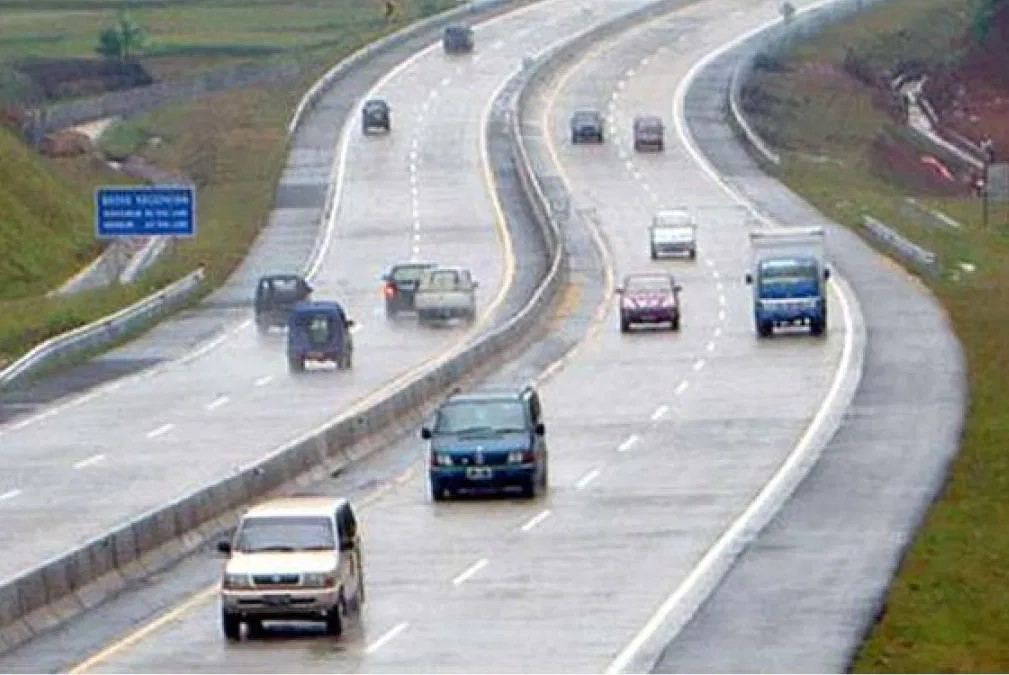car: (221, 499, 366, 645), (433, 384, 548, 505), (752, 228, 829, 336), (285, 297, 357, 375), (252, 271, 317, 343), (617, 269, 680, 336), (418, 264, 476, 324), (384, 259, 432, 328), (651, 210, 696, 263), (570, 106, 603, 149), (359, 95, 391, 137), (632, 114, 664, 155), (441, 23, 475, 53)
